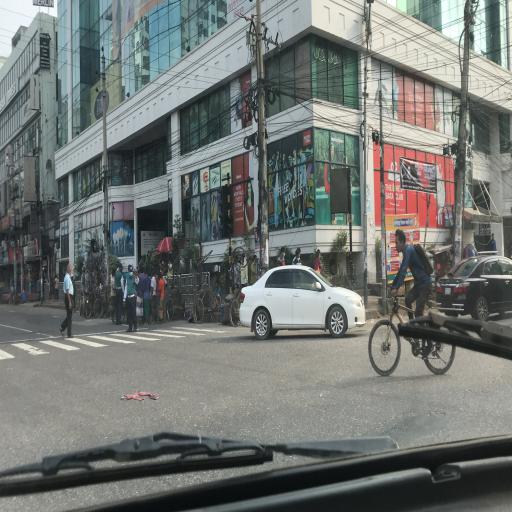bicycle: (369, 305, 455, 381)
car: (242, 267, 367, 345), (438, 257, 512, 324)
